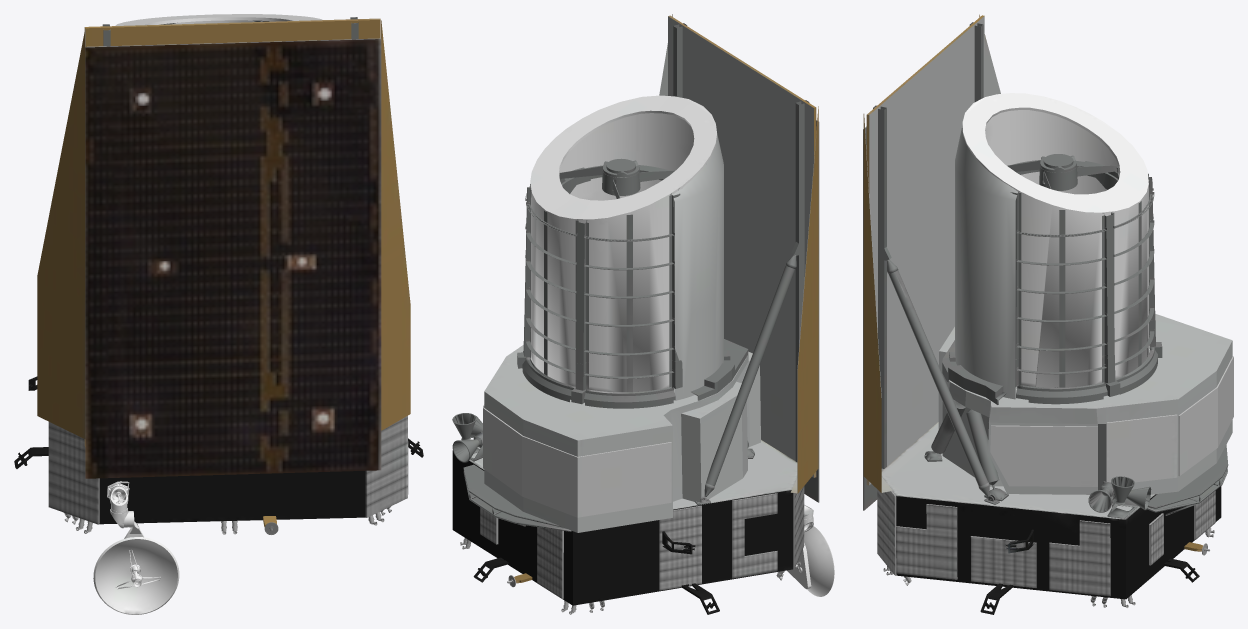
The model's file is euclid.glb.
3 views of the same model, side by side, from view 1: azimuth 30°, elevation 25°; view 2: azimuth 150°, elevation 25°; view 3: azimuth 270°, elevation 25° (orthographic). The views are drawn at different scales.
Parts seen in each view (by area): view 1: Euclid; view 2: Euclid; view 3: Euclid.
Boxes of the visible parts, x1,y1,x2,y2 form: Euclid: [14, 14, 423, 614]; Euclid: [452, 14, 834, 614]; Euclid: [863, 14, 1233, 614].
Bounding box in the file's own units: 343 × 530 × 349.
Materials: 1 (1 with a texture image).
